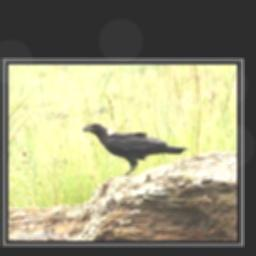Crow: (81, 122, 188, 176)
